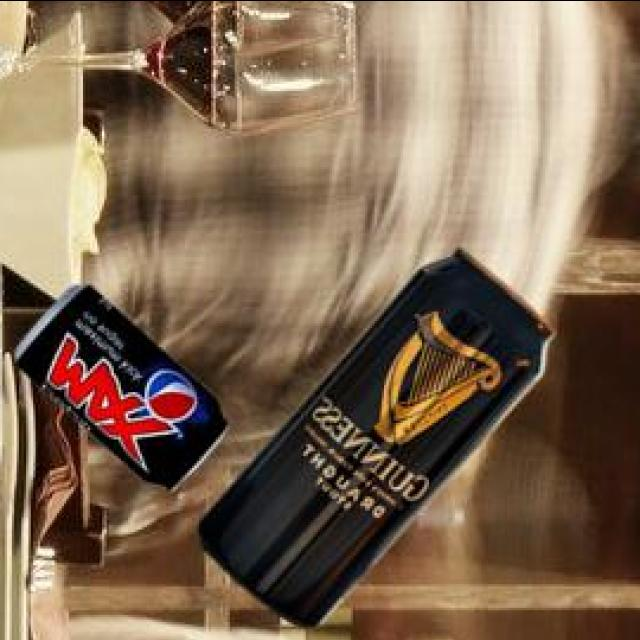logam: (203, 250, 558, 627), (20, 288, 231, 492)
